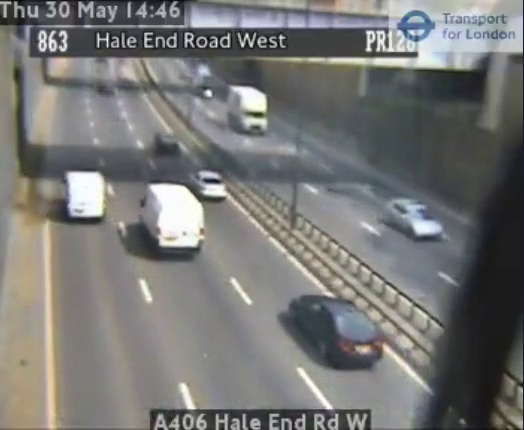car: (289, 295, 384, 365), (188, 171, 228, 198)
van: (142, 184, 206, 256), (63, 170, 105, 220)
